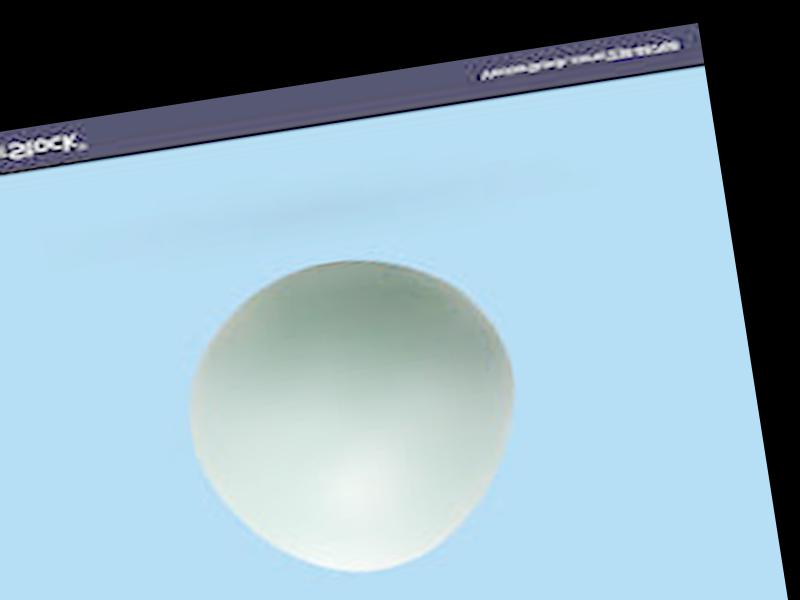Eggs: (170, 238, 543, 595)
